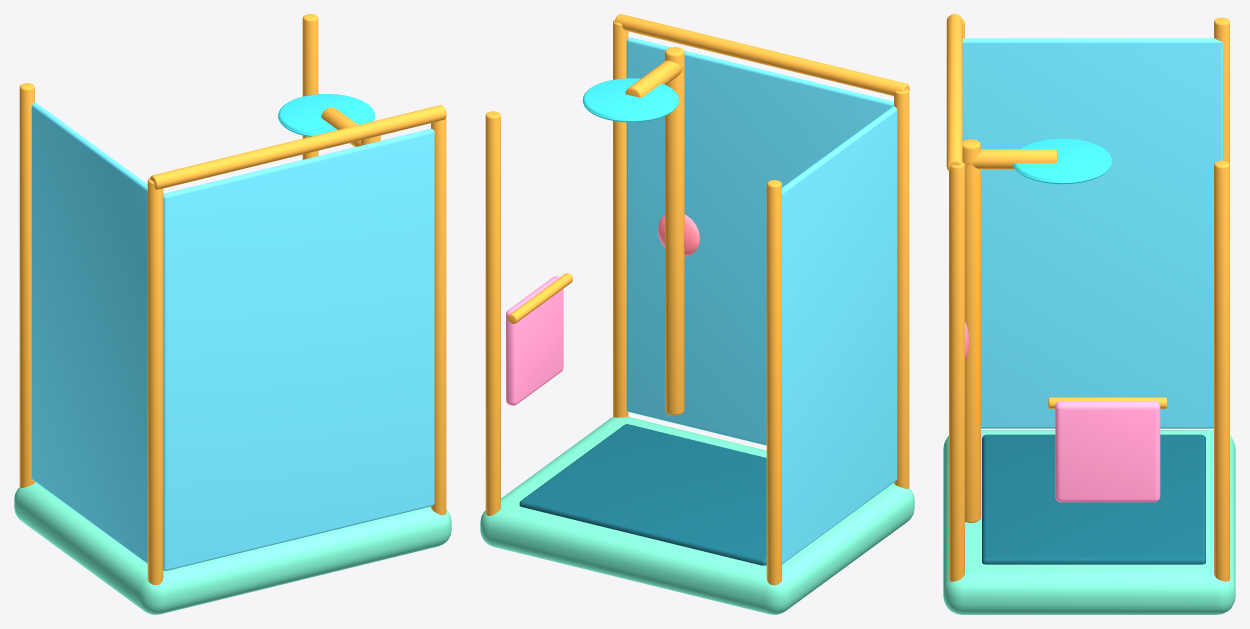
The model's file is BathroomShower.fbx.
The picture shows the model from 3 angles, left to right: view 1: azimuth 30°, elevation 25°; view 2: azimuth 150°, elevation 25°; view 3: azimuth 270°, elevation 25°; orthographic projection. The views are drawn at different scales.
Visible parts, largest first — view 1: BathroomShower; view 2: BathroomShower; view 3: BathroomShower.
Part boxes in pixels (left/top/right/bottom): BathroomShower: left=14, top=14, right=451, bottom=614; BathroomShower: left=480, top=14, right=914, bottom=614; BathroomShower: left=943, top=14, right=1235, bottom=614.
Bounding box in the file's own units: 1.65 × 2.21 × 1.28.
